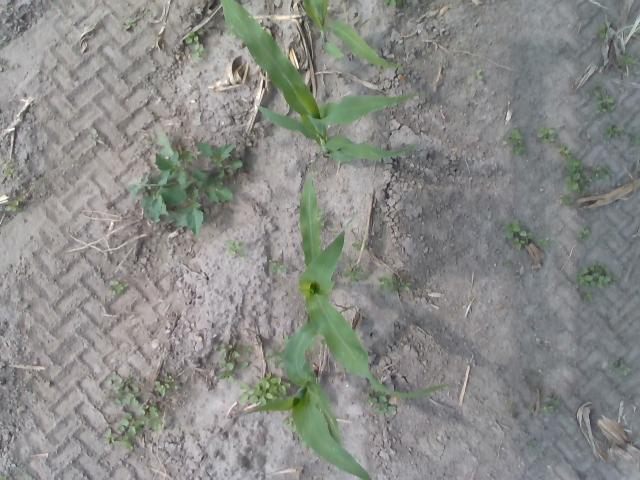Maize: (298, 175, 449, 397), (220, 0, 419, 164), (245, 321, 372, 480), (300, 0, 398, 70)
Weeds: (127, 130, 244, 234), (556, 142, 612, 193), (104, 410, 144, 450), (218, 344, 250, 382), (108, 374, 142, 408), (580, 262, 614, 286), (235, 382, 263, 406), (262, 372, 284, 400), (507, 220, 529, 246), (505, 126, 524, 156), (593, 85, 614, 112), (379, 273, 410, 290), (369, 396, 397, 414), (146, 403, 163, 428), (185, 33, 204, 55), (607, 123, 629, 141), (106, 280, 127, 298), (228, 239, 245, 260), (616, 53, 636, 70), (345, 264, 361, 281), (270, 258, 286, 275), (90, 128, 104, 146), (4, 199, 20, 214), (154, 380, 169, 396), (592, 23, 606, 39), (540, 128, 556, 142), (580, 224, 592, 242), (618, 358, 630, 376), (546, 396, 560, 411), (126, 19, 138, 32), (384, 0, 404, 7), (472, 70, 483, 82), (560, 194, 572, 204), (536, 238, 550, 246), (581, 290, 592, 300), (4, 168, 16, 176), (352, 242, 362, 250), (502, 260, 512, 266), (167, 376, 174, 382), (175, 385, 181, 389)
